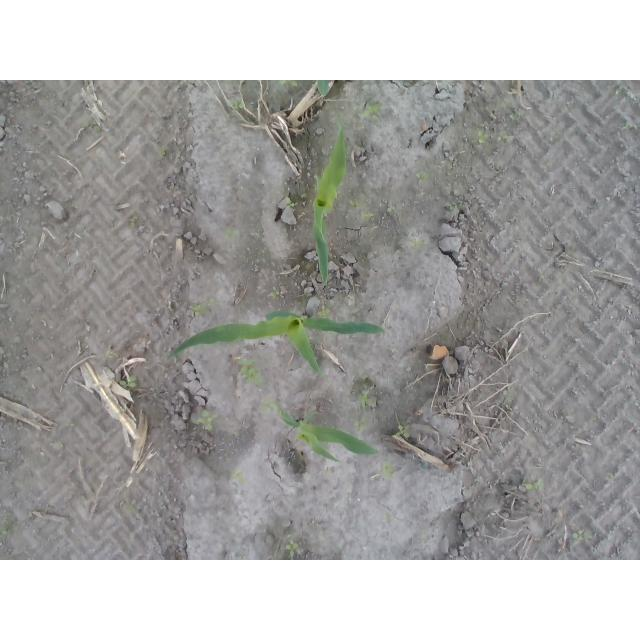Maize: (168, 311, 384, 373), (264, 397, 380, 463), (312, 118, 348, 285)
Weeds: (238, 355, 263, 385), (351, 380, 373, 408), (358, 101, 383, 120), (197, 408, 216, 432), (116, 374, 138, 390), (285, 540, 300, 561), (574, 528, 595, 541), (396, 422, 411, 440), (527, 477, 546, 491), (354, 418, 369, 434), (476, 129, 489, 144), (447, 201, 462, 211), (280, 81, 301, 88), (415, 169, 430, 178), (319, 310, 334, 319), (230, 99, 242, 110), (499, 132, 510, 143), (192, 303, 204, 313), (512, 111, 524, 121), (271, 291, 281, 300), (287, 200, 297, 209), (0, 528, 8, 536)
